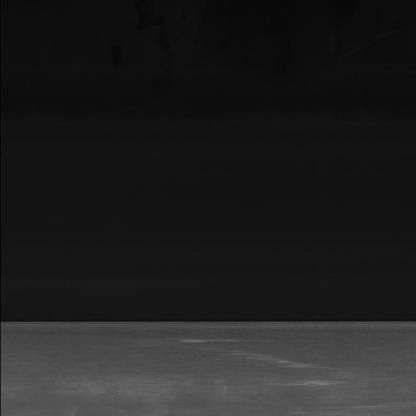silk_spot: (140, 335, 364, 411)
